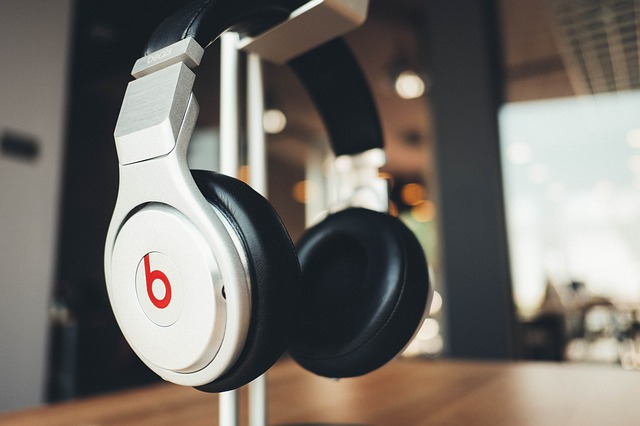headphones: (105, 1, 433, 393)
